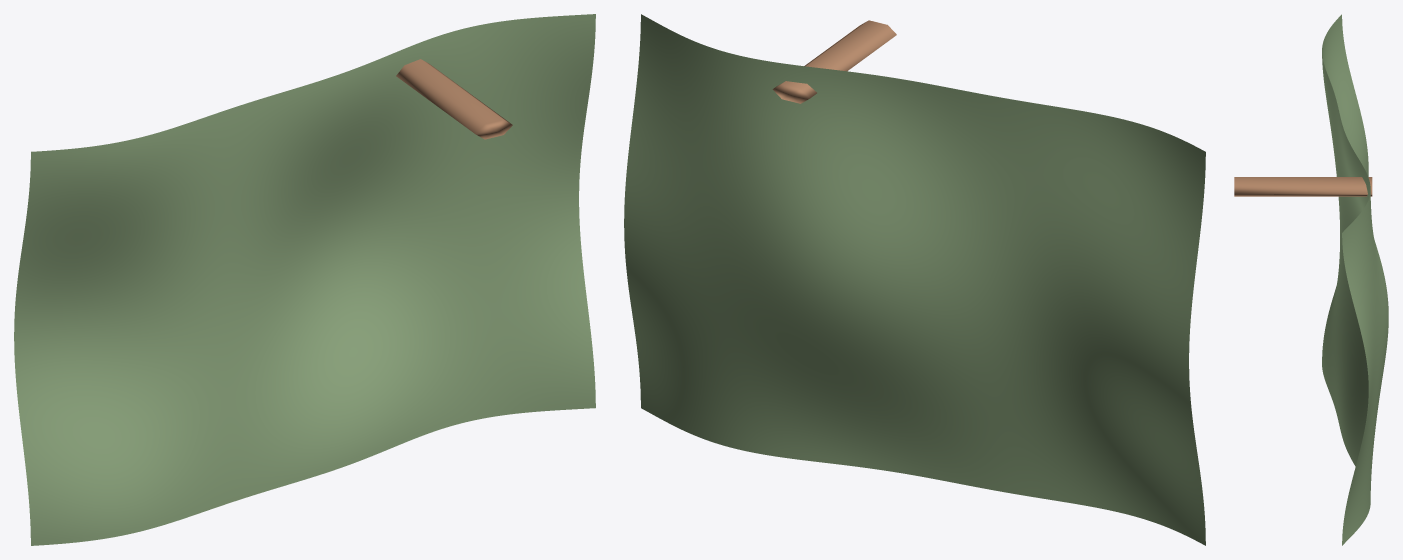
3 renders of one model, left to right at view 1: azimuth 30°, elevation 25°; view 2: azimuth 150°, elevation 25°; view 3: azimuth 270°, elevation 25°, orthographic. The views are drawn at different scales.
Parts seen in each view (by area): view 1: scene; view 2: scene; view 3: scene.
Part boxes in pixels (x1,y1,x2,y2): scene: (14, 14, 595, 545); scene: (624, 14, 1205, 545); scene: (1234, 14, 1388, 545).
Bounding box in the file's own units: 12 × 8 × 3.58.
